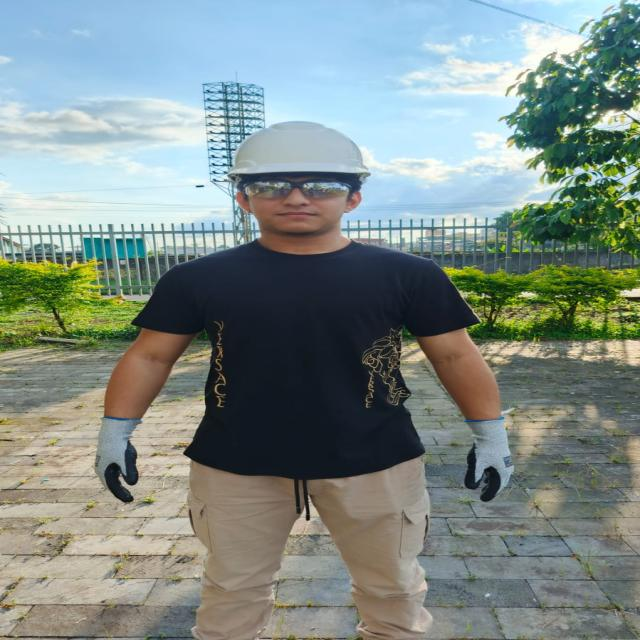gloves: (464, 417, 513, 502), (95, 417, 141, 502)
helmet: (228, 121, 369, 181)
protective_glasses: (238, 179, 358, 202)
